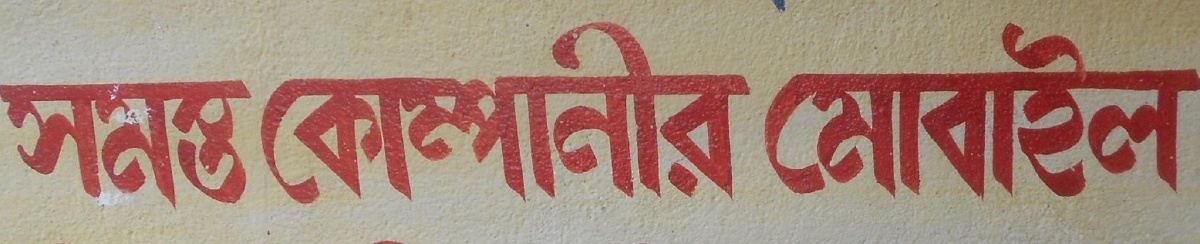text: (769, 15, 784, 208), (785, 15, 800, 208), (801, 15, 816, 208), (817, 15, 832, 208), (833, 15, 848, 208), (849, 15, 864, 208), (865, 15, 880, 208), (881, 15, 896, 208), (897, 15, 912, 208), (913, 15, 928, 208), (929, 15, 944, 208), (945, 15, 960, 208), (961, 15, 976, 208), (977, 15, 992, 208), (993, 15, 1008, 208), (1009, 15, 1024, 208), (1025, 15, 1040, 208), (1041, 15, 1056, 208), (1057, 15, 1072, 208), (1073, 15, 1088, 208), (1089, 15, 1104, 208), (1105, 15, 1120, 208), (1121, 15, 1136, 208), (1137, 15, 1152, 208), (1153, 15, 1168, 208), (1169, 15, 1184, 208), (257, 18, 272, 210), (273, 18, 288, 210), (289, 18, 304, 210), (305, 18, 320, 210), (321, 18, 336, 210), (337, 18, 352, 210), (353, 18, 368, 210), (369, 18, 384, 210), (385, 18, 400, 210), (401, 18, 416, 210), (417, 18, 432, 210), (433, 18, 448, 210), (449, 18, 464, 210), (465, 18, 480, 210), (481, 18, 496, 210), (497, 18, 512, 210), (513, 18, 528, 210), (529, 18, 544, 210), (545, 18, 560, 210), (561, 18, 576, 210), (577, 18, 592, 210), (593, 18, 608, 210), (609, 18, 624, 210), (625, 18, 640, 210), (641, 18, 656, 210), (657, 18, 672, 210), (673, 18, 688, 210), (689, 18, 704, 210), (705, 18, 720, 210), (721, 18, 736, 210), (737, 18, 752, 210), (1185, 15, 1199, 208), (1, 79, 16, 210), (17, 79, 32, 210), (33, 79, 48, 210), (49, 79, 64, 210), (65, 79, 80, 210), (81, 79, 96, 210), (97, 79, 112, 210), (113, 79, 128, 210), (129, 79, 144, 210), (145, 79, 160, 210), (161, 79, 176, 210), (177, 79, 192, 210), (193, 79, 208, 210), (209, 79, 224, 210), (225, 79, 240, 210), (241, 79, 256, 210), (257, 79, 272, 210), (753, 18, 759, 210), (763, 15, 768, 208), (273, 79, 277, 210), (254, 18, 256, 210), (369, 233, 384, 244), (385, 233, 400, 244), (401, 233, 414, 244), (366, 233, 368, 244)
